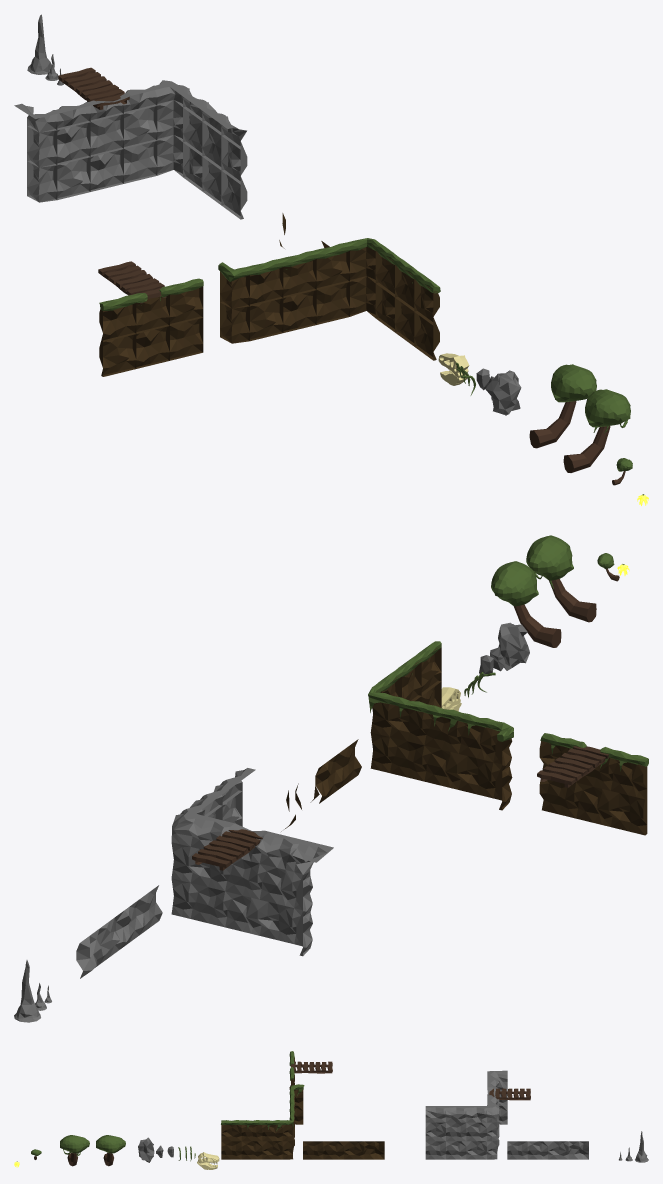
Rendered from ModularSwampEnvironmentV6.fbx.
3 views of the same model, one above another, from view 1: azimuth 30°, elevation 25°; view 2: azimuth 150°, elevation 25°; view 3: azimuth 270°, elevation 25° (orthographic). The views are drawn at different scales.
Parts seen in each view (by area): view 1: Cylinder.005, Cylinder.001, Cube.068, Cube.067, Cube.057, Cube.009, Cube.059, Cube.037, Cube.039, Cube.038, Cube.008, Cube.058 (+32 smaller); view 2: Cylinder.005, Cylinder.001, Cube.067, Cube.068, Cube.059, Cube.037, Cube.039, Cube.041, Cube.008, Cube.058, Cube.009, Cube.010 (+24 smaller); view 3: Cylinder.005, Cylinder.001, Cube.067, Cube.068, Cube.035, Cube.001, Cube.034, Cube.036, Cube, Cube.002, Cube.022, Cube.023 (+24 smaller).
Part boxes in pixels (x1,y1,x2,y2): Cylinder.005: (563, 389, 630, 472); Cylinder.001: (529, 364, 596, 448); Cube.068: (58, 67, 129, 109); Cube.067: (98, 261, 166, 303); Cube.057: (166, 316, 203, 360); Cube.009: (279, 288, 316, 332); Cube.059: (99, 333, 136, 376); Cube.037: (120, 139, 157, 183); Cube.039: (53, 156, 90, 200); Cube.038: (86, 148, 123, 191); Cube.008: (315, 280, 349, 324); Cube.058: (132, 324, 169, 368); Cylinder.005: (526, 535, 596, 622); Cylinder.001: (491, 561, 561, 647); Cube.067: (537, 746, 608, 787); Cube.068: (192, 829, 262, 870); Cube.059: (608, 791, 647, 835); Cube.037: (188, 883, 226, 927); Cube.039: (257, 900, 295, 943); Cube.041: (257, 864, 295, 907); Cube.008: (388, 737, 426, 781); Cube.058: (574, 782, 612, 826); Cube.009: (422, 745, 460, 789); Cube.010: (457, 754, 495, 798); Cylinder.005: (60, 1135, 89, 1166); Cylinder.001: (96, 1135, 125, 1166); Cube.067: (291, 1061, 332, 1073); Cube.068: (489, 1088, 530, 1100); Cube.035: (466, 1122, 486, 1141); Cube.001: (241, 1141, 262, 1159); Cube.034: (446, 1122, 466, 1141); Cube.036: (425, 1122, 445, 1141); Cube: (221, 1141, 241, 1159); Cube.002: (262, 1141, 282, 1159); Cube.022: (303, 1141, 323, 1159); Cube.023: (323, 1141, 343, 1159).
Size of the model in its own units: 9618 by 3116 by 31087.
